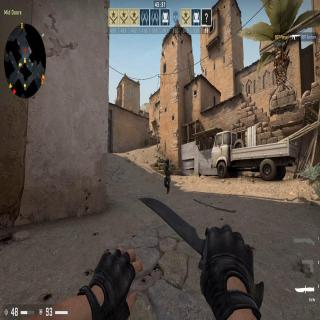CT-Body: (164, 158, 171, 194)
CT-Head: (166, 158, 169, 164)
